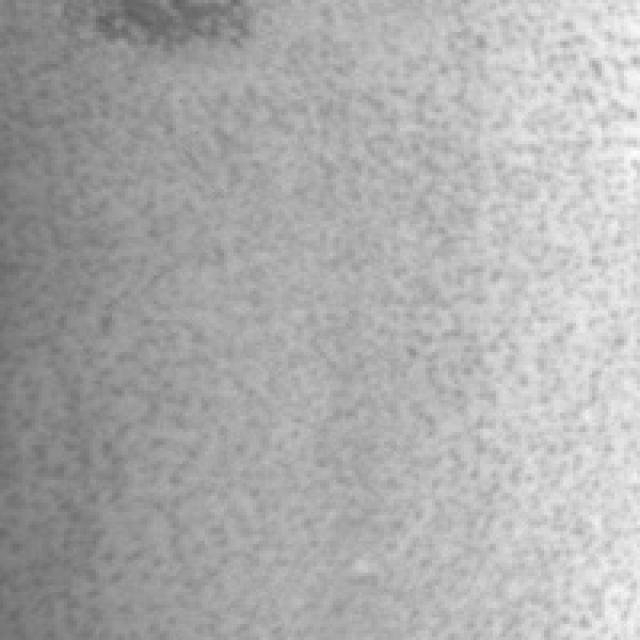pitted_surface: (13, 0, 640, 630)
